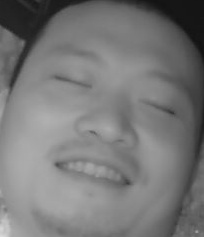blink: (49, 70, 93, 95), (143, 96, 176, 120)
mouth: (54, 150, 133, 194)
